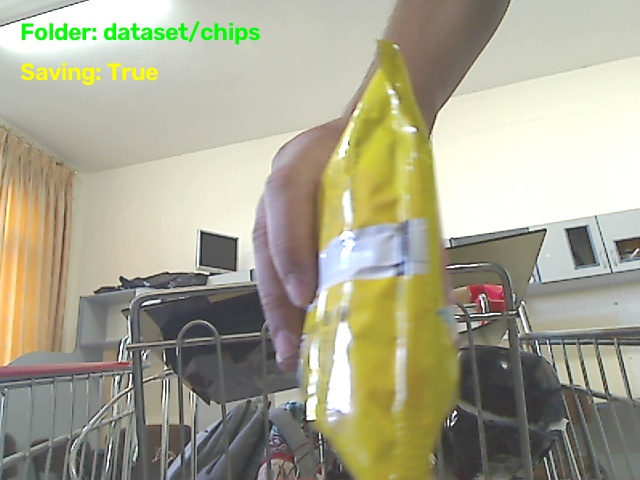chips: (301, 42, 457, 479)
